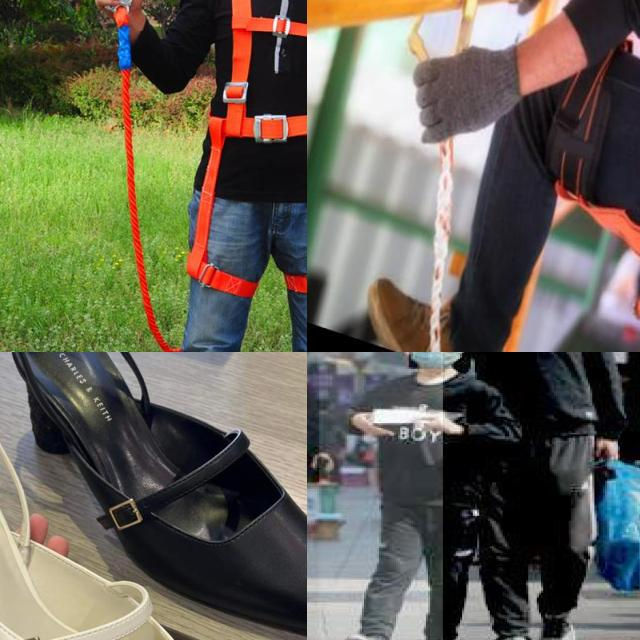Harness: (194, 0, 307, 297)
Sandals: (0, 352, 307, 640), (0, 353, 307, 640)
face_mask: (408, 352, 462, 369)
person: (442, 352, 640, 640), (347, 352, 509, 640)
shoes: (529, 587, 582, 640), (326, 629, 399, 640)
